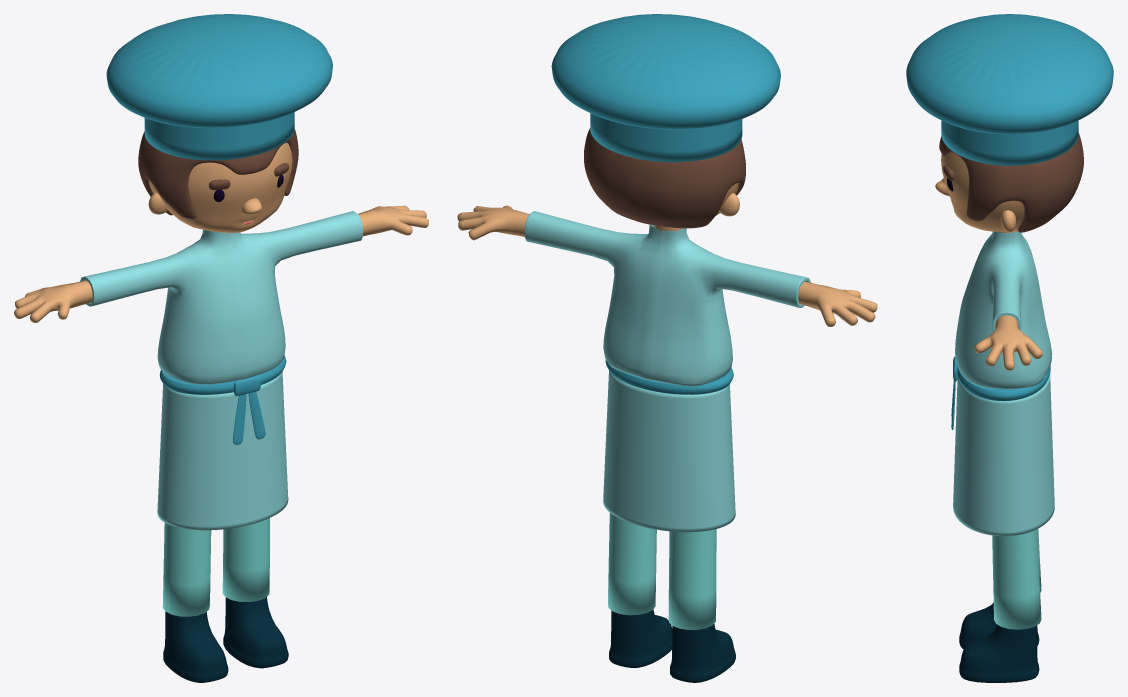
Rendered from Character A 2.fbx.
3 renders of one model, left to right at view 1: azimuth 30°, elevation 25°; view 2: azimuth 150°, elevation 25°; view 3: azimuth 270°, elevation 25°, orthographic.
Parts seen in each view (by area): view 1: Cap.002, Upper Body.002, long cover.002, legs.002, Shoes.002, Head.004, Hair.002, Hands.002, belt round.002; view 2: Cap.002, Upper Body.002, long cover.002, Hair.002, legs.002, Shoes.002, Hands.002, belt round.002; view 3: Cap.002, long cover.002, Upper Body.002, Hair.002, Shoes.002, legs.002, Head.004, Hands.002, belt round.002.
Boxes of the visible parts, x1,y1,x2,y2 form: Cap.002: [106, 14, 332, 160]; Upper Body.002: [80, 211, 363, 384]; long cover.002: [157, 371, 288, 530]; legs.002: [162, 518, 269, 616]; Shoes.002: [163, 597, 288, 682]; Head.004: [148, 142, 292, 232]; Hair.002: [138, 129, 298, 218]; Hands.002: [14, 205, 428, 322]; belt round.002: [159, 355, 286, 394]; Cap.002: [551, 14, 780, 162]; Upper Body.002: [524, 211, 810, 386]; long cover.002: [603, 371, 735, 532]; Hair.002: [584, 128, 745, 228]; legs.002: [608, 513, 716, 629]; Shoes.002: [609, 609, 735, 682]; Hands.002: [457, 205, 877, 326]; belt round.002: [605, 360, 733, 394]; Cap.002: [906, 14, 1113, 165]; long cover.002: [953, 373, 1054, 536]; Upper Body.002: [955, 231, 1052, 389]; Hair.002: [939, 133, 1083, 232]; Shoes.002: [959, 602, 1039, 682]; legs.002: [992, 529, 1041, 629]; Head.004: [941, 152, 1024, 231]; Hands.002: [974, 315, 1042, 370]; belt round.002: [957, 365, 1050, 401].
Size of the model in its own units: 231 by 334 by 101.
